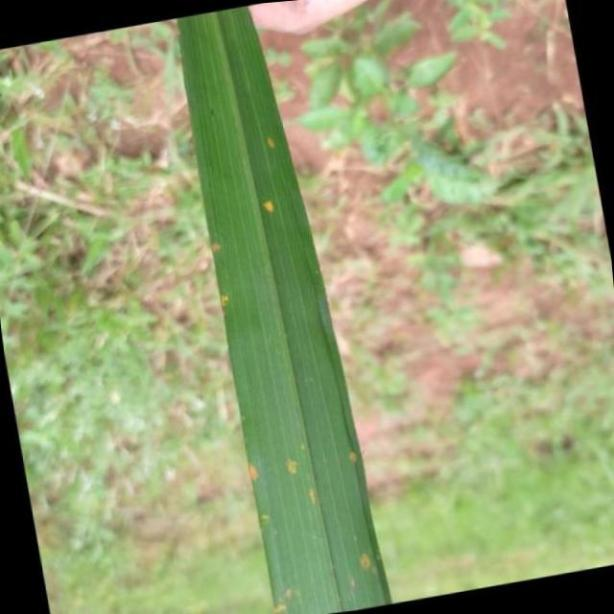Kalium: (177, 2, 400, 609)
